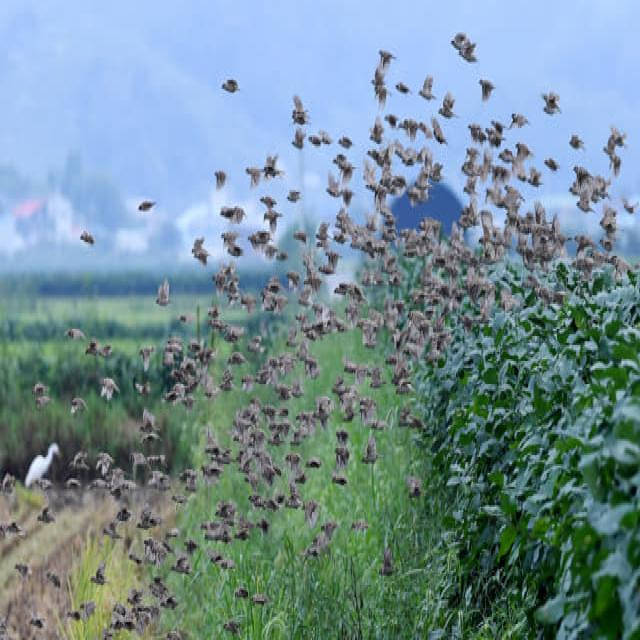bird: (19, 442, 62, 494), (368, 52, 394, 104), (448, 30, 482, 66), (286, 92, 312, 130), (602, 124, 628, 160), (217, 199, 246, 226), (151, 276, 174, 310), (218, 229, 244, 259), (538, 89, 564, 118), (574, 182, 596, 215), (478, 210, 497, 248), (610, 254, 635, 282), (436, 89, 458, 120), (98, 374, 122, 402), (190, 234, 210, 267), (260, 152, 282, 182), (240, 164, 265, 189), (137, 343, 157, 374), (205, 428, 225, 458), (468, 120, 490, 147), (415, 74, 436, 102), (362, 436, 382, 465), (326, 169, 346, 198), (368, 116, 387, 146), (88, 560, 109, 586), (476, 76, 495, 104), (248, 227, 270, 251), (512, 141, 536, 163), (429, 116, 447, 145), (76, 227, 100, 248), (508, 111, 530, 133), (37, 503, 57, 527), (499, 288, 519, 312), (239, 290, 258, 314), (201, 462, 224, 481), (212, 167, 230, 191), (62, 328, 86, 346), (311, 127, 332, 147), (219, 77, 241, 96), (298, 285, 314, 310), (618, 194, 636, 216), (358, 404, 376, 426), (324, 249, 342, 271), (133, 197, 156, 214), (568, 132, 587, 152), (70, 395, 90, 414), (66, 606, 86, 624), (394, 80, 412, 99), (286, 268, 301, 290), (336, 133, 354, 150), (85, 338, 101, 357), (543, 156, 560, 173), (36, 394, 53, 411), (286, 189, 302, 206), (33, 382, 52, 394)
